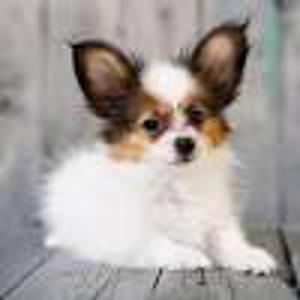yell: (40, 19, 275, 275)
